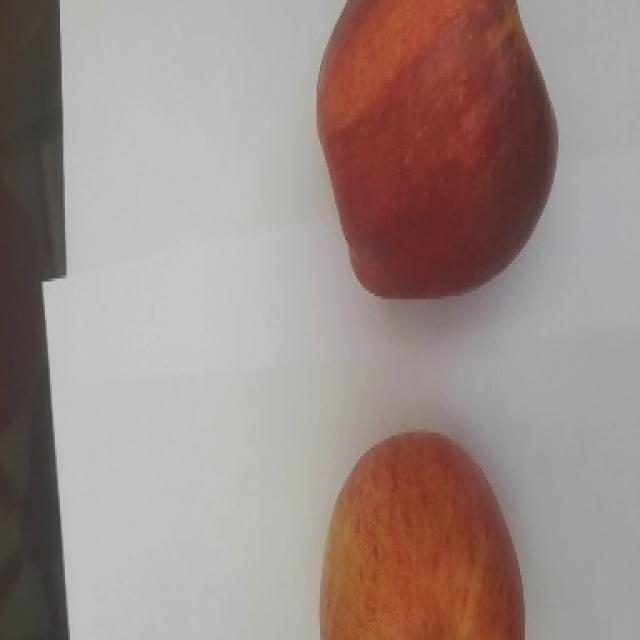Apple: (315, 0, 558, 300), (318, 429, 526, 639)
